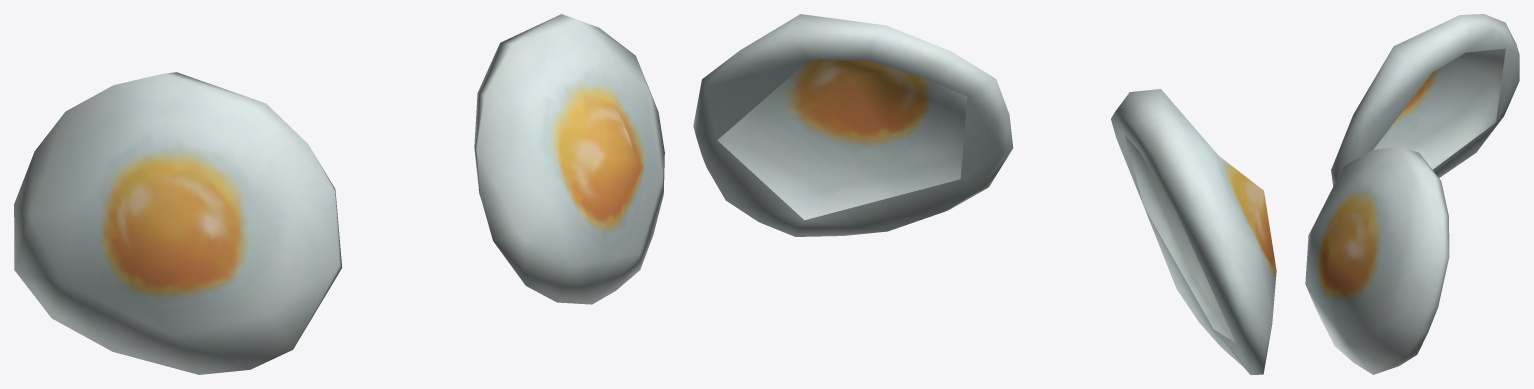
The model's file is Homeworld_Exterior_Common_Prop_Thing_SnowmanEye_03_Vo.fbx.
3 views of the same model, side by side, from view 1: azimuth 30°, elevation 25°; view 2: azimuth 150°, elevation 25°; view 3: azimuth 270°, elevation 25° (orthographic). The views are drawn at different scales.
Visible parts, largest first — view 1: Homeworld_Exterior_Common_Prop_Thing_SnowmanEye_03_Vo; view 2: Homeworld_Exterior_Common_Prop_Thing_SnowmanEye_03_Vo; view 3: Homeworld_Exterior_Common_Prop_Thing_SnowmanEye_03_Vo.
Part boxes in pixels (x1,y1,x2,y2): Homeworld_Exterior_Common_Prop_Thing_SnowmanEye_03_Vo: [14, 14, 664, 374]; Homeworld_Exterior_Common_Prop_Thing_SnowmanEye_03_Vo: [693, 14, 1276, 374]; Homeworld_Exterior_Common_Prop_Thing_SnowmanEye_03_Vo: [1305, 14, 1519, 374].
Bounding box in the file's own units: 0.5625 × 0.233 × 0.224.
